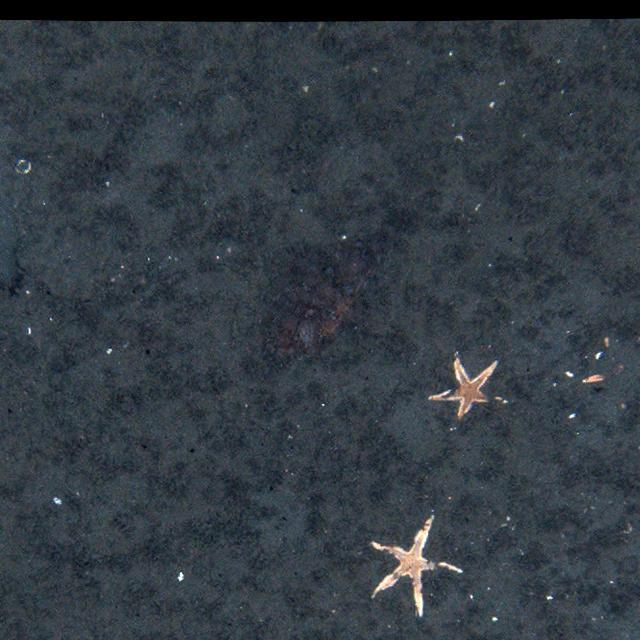flatfish: (260, 225, 400, 378)
